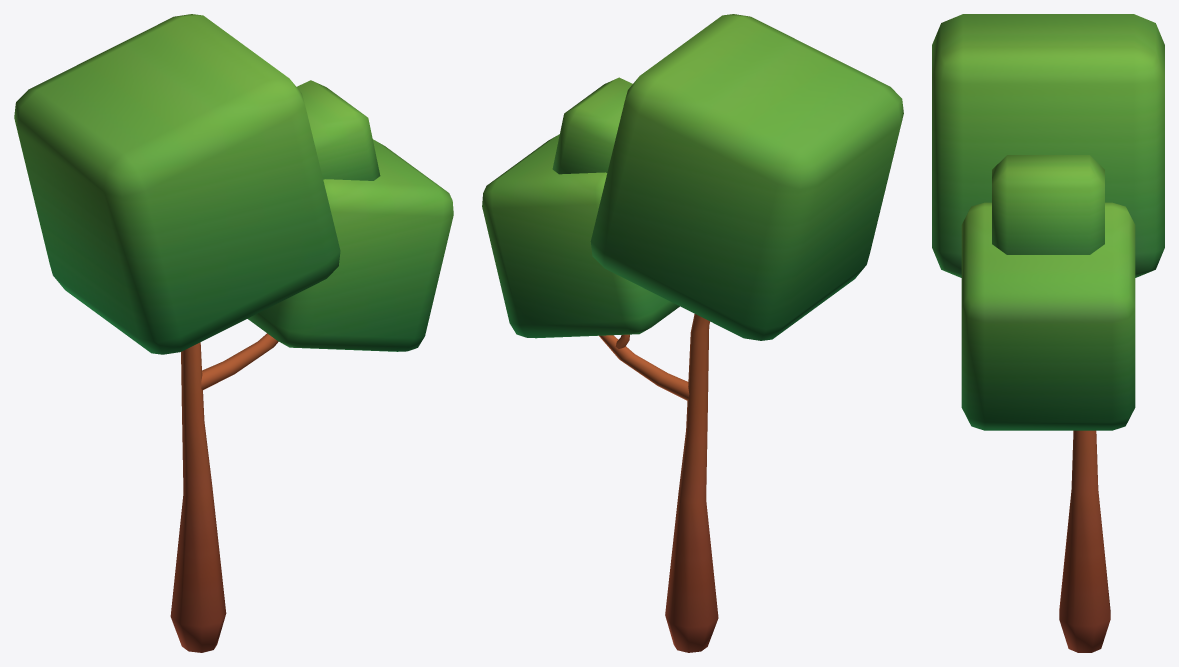
Rendered from tree_2_b_color1.glb.
3 views of the same model, side by side, from view 1: azimuth 30°, elevation 25°; view 2: azimuth 150°, elevation 25°; view 3: azimuth 270°, elevation 25° (orthographic). The views are drawn at different scales.
Parts seen in each view (by area): view 1: Tree_2_B_Color1; view 2: Tree_2_B_Color1; view 3: Tree_2_B_Color1.
Part boxes in pixels (box(x1,y1,x2,y2)): Tree_2_B_Color1: box(14, 14, 453, 652); Tree_2_B_Color1: box(482, 14, 903, 652); Tree_2_B_Color1: box(932, 14, 1164, 652).
Bounding box in the file's own units: 3.7 × 6.04 × 2.1.
Materials: 1 (1 with a texture image).
